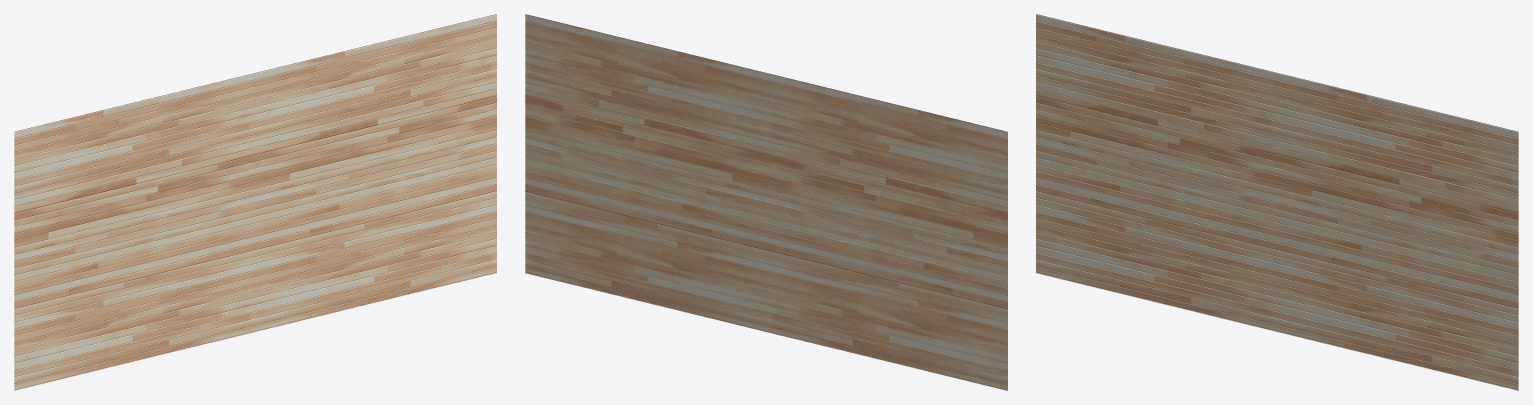
The model's file is V-GRROOVE_LAP.glb.
3 renders of one model, left to right at view 1: azimuth 30°, elevation 25°; view 2: azimuth 150°, elevation 25°; view 3: azimuth 330°, elevation 25°, orthographic.
Visible parts, largest first — view 1: Plane019; view 2: Plane019; view 3: Plane019.
Part boxes in pixels (x1,y1,x2,y2): Plane019: (14,14,496,390); Plane019: (525,14,1007,390); Plane019: (1036,14,1518,390).
Size of the model in its own units: 11.45 by 5.88 by 0.00454.
1 material, 1 textured.
